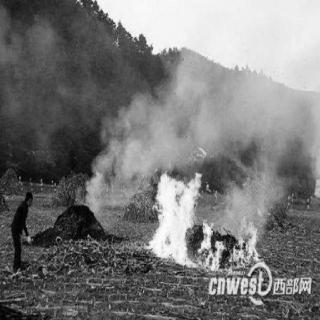Fire: (154, 165, 260, 271)
